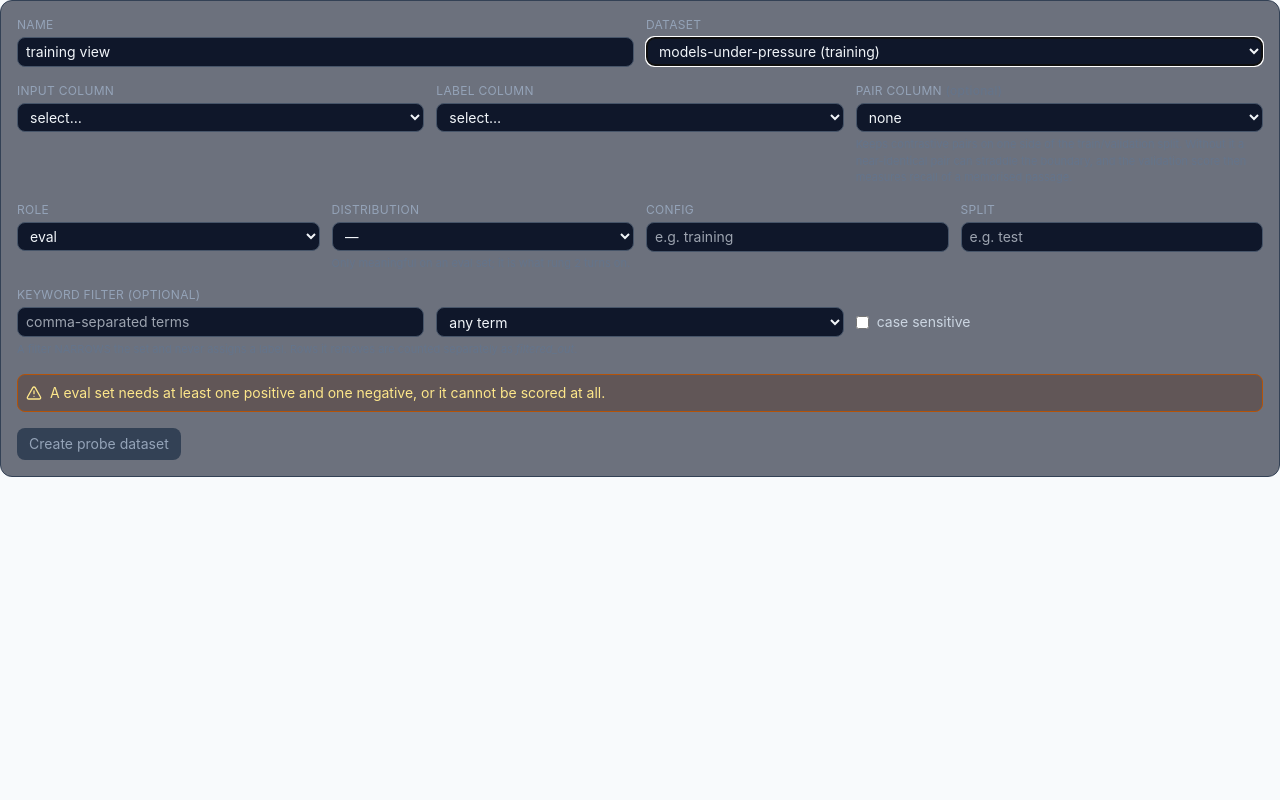
Test: ProbeDatasetForm reads its choices from the data › submits once every value is mapped
Earlier steps of the test are not shown.
Later steps or results of the test are not shown.
Check: the dropdown labelled "Label column" is shown, box [436, 103, 844, 132]
Step 1. Select "inputs" in the dropdown labelled "Input column" → (221, 118), box [17, 103, 424, 132]
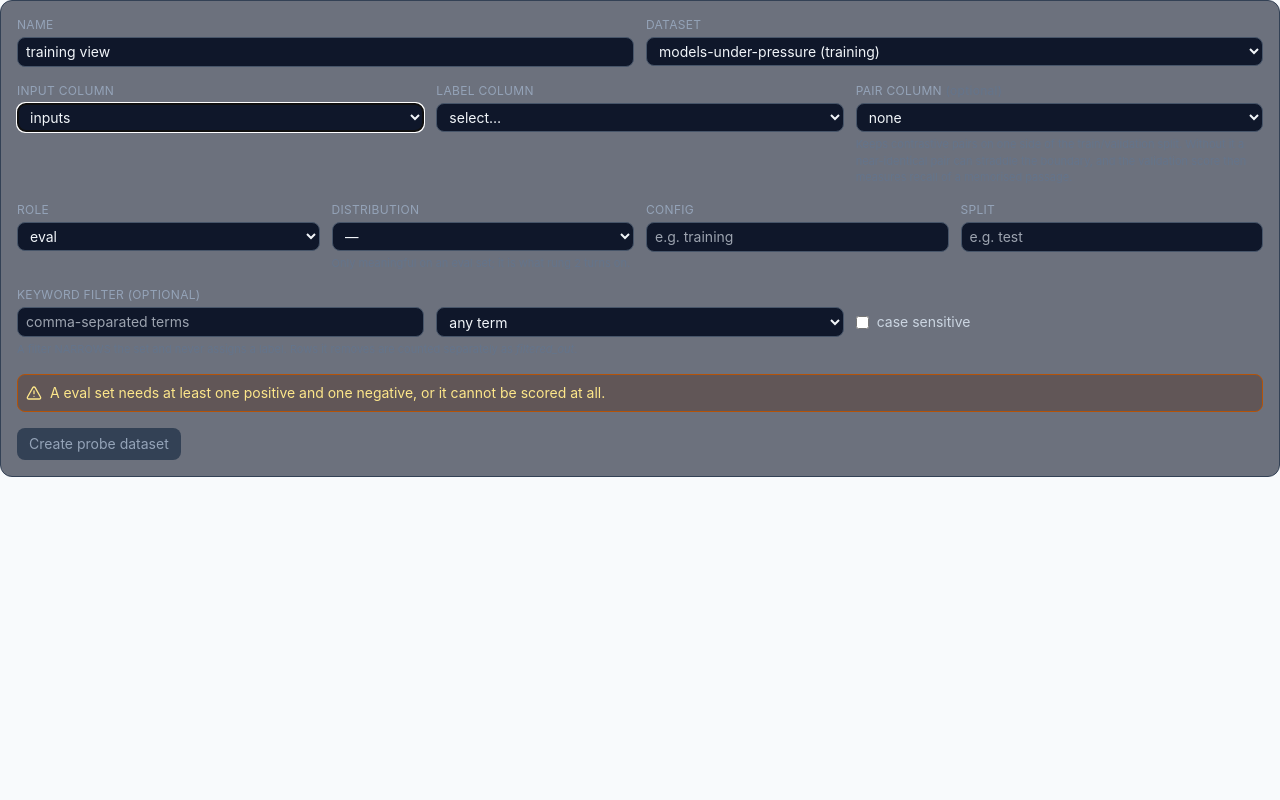
Step 2. Select "stakes" in the dropdown labelled "Label column" → (640, 118), box [436, 103, 844, 132]
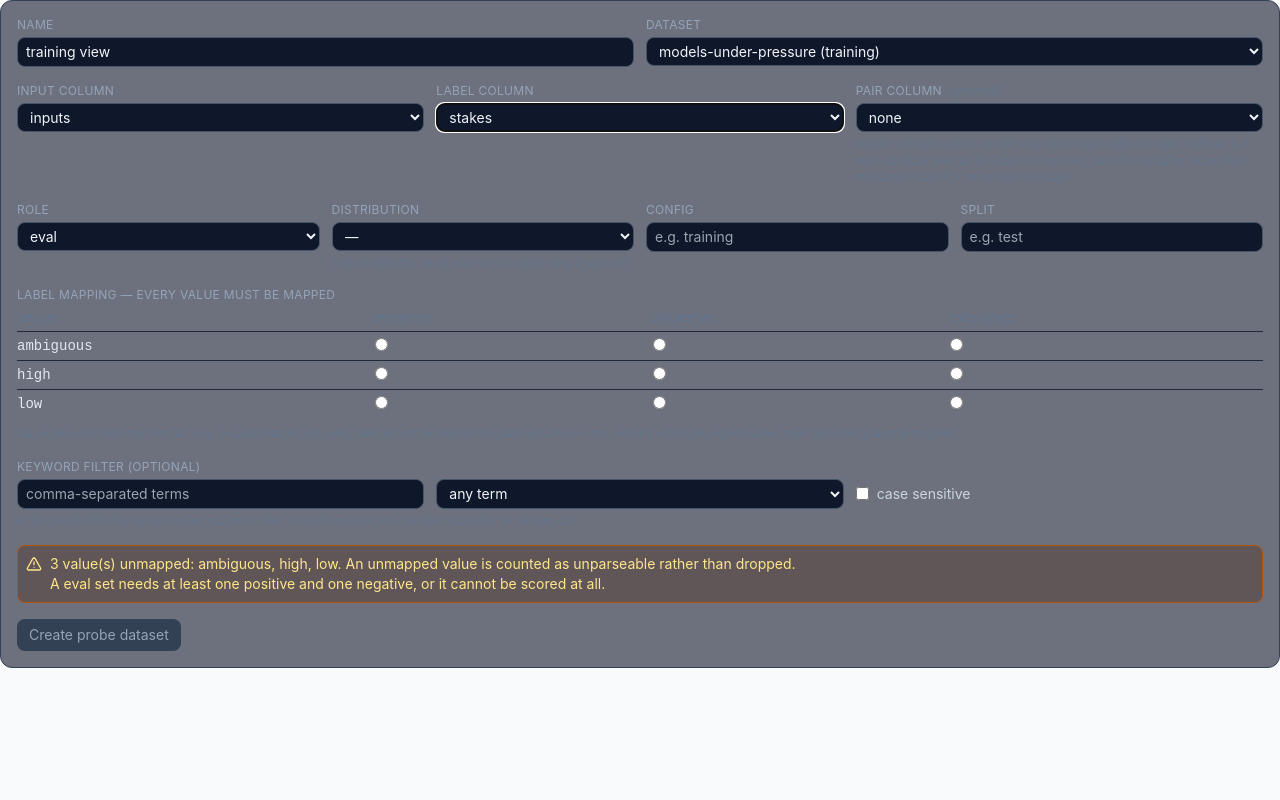
Step 3. Click the radio button named "high → positive" → (382, 374), box [375, 367, 388, 380]
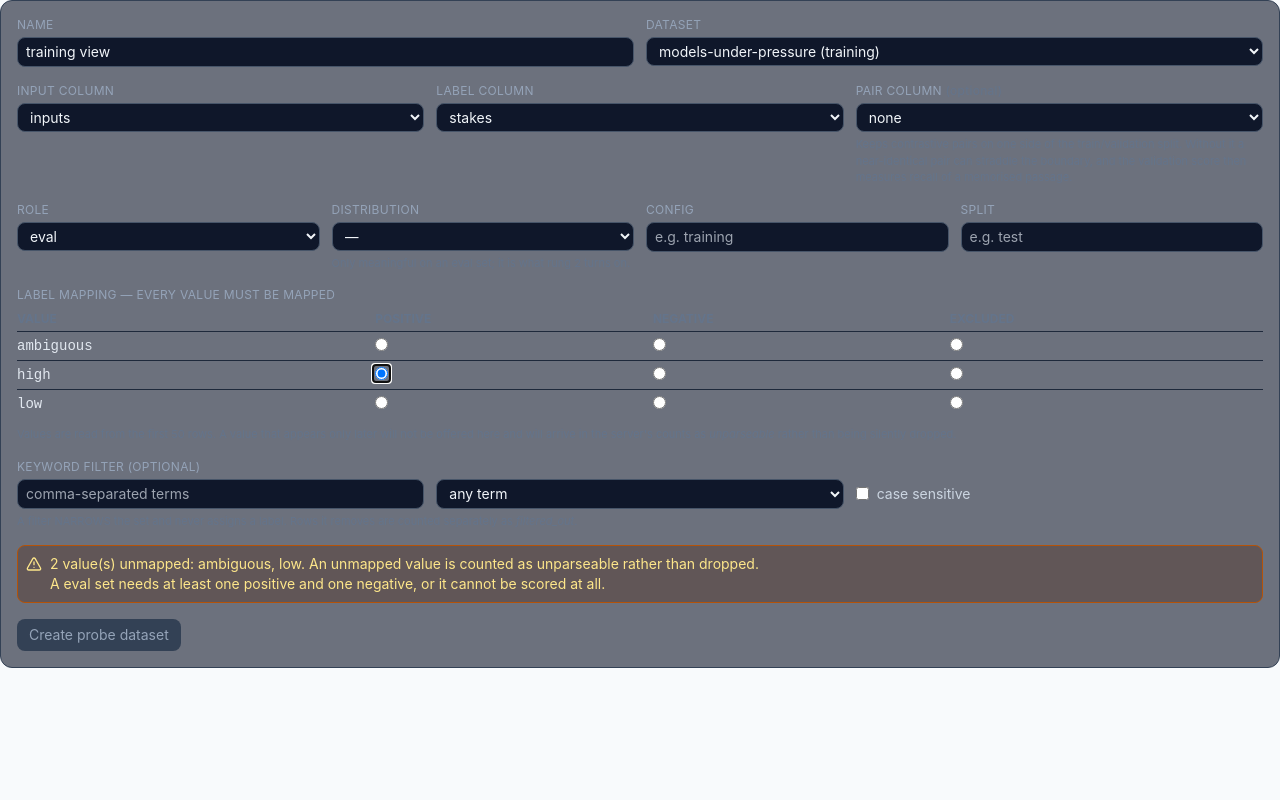
Step 4. Click the radio button named "low → negative" → (659, 402), box [653, 396, 666, 409]
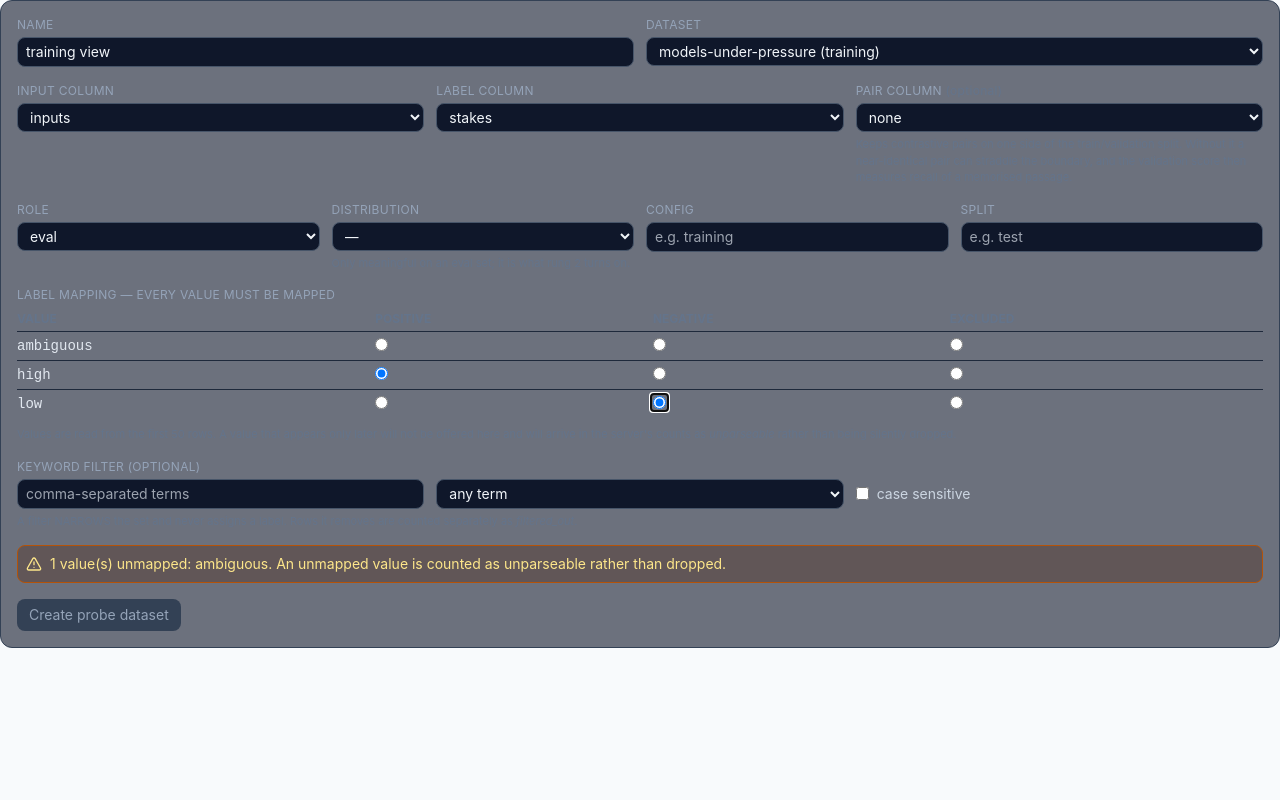
Step 5. Click the radio button named "ambiguous → excluded" → (956, 344), box [950, 338, 963, 351]
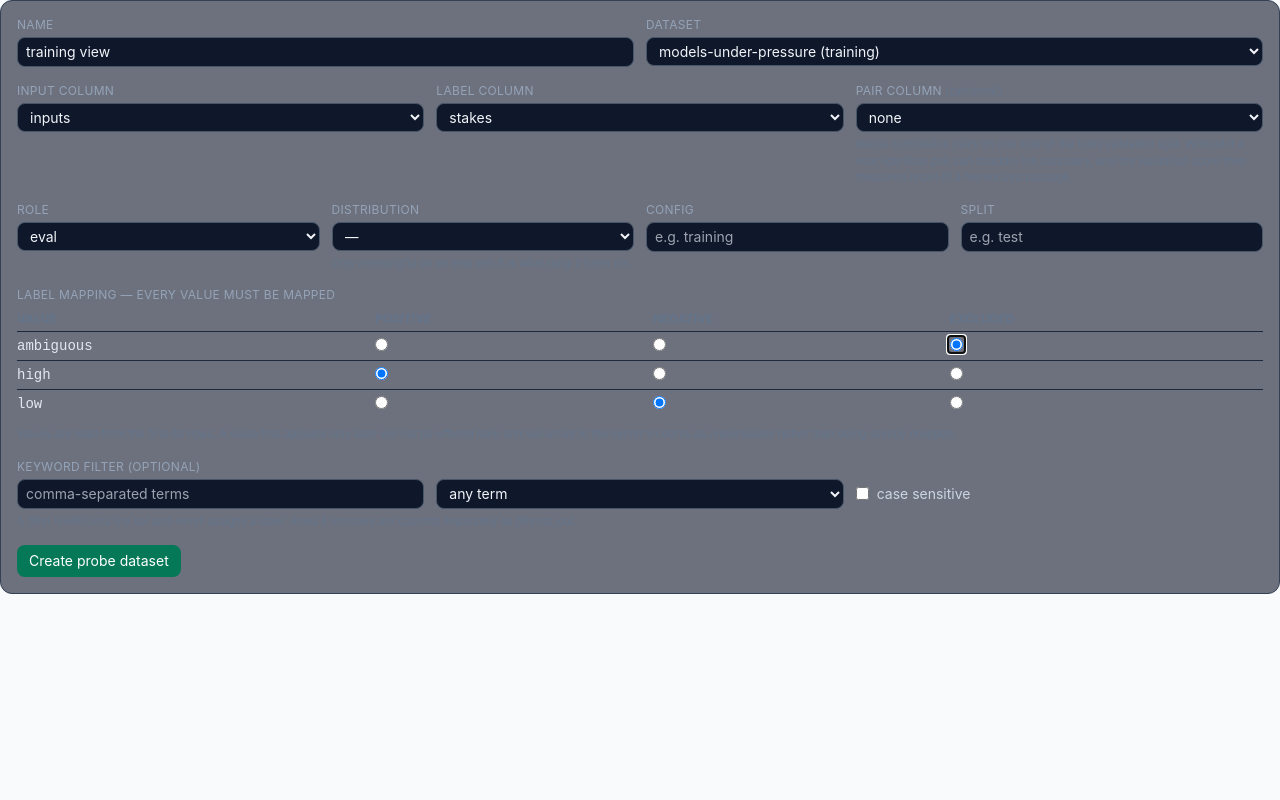
Step 6. Select "train" in the dropdown labelled "Role" → (168, 236), box [17, 222, 320, 250]
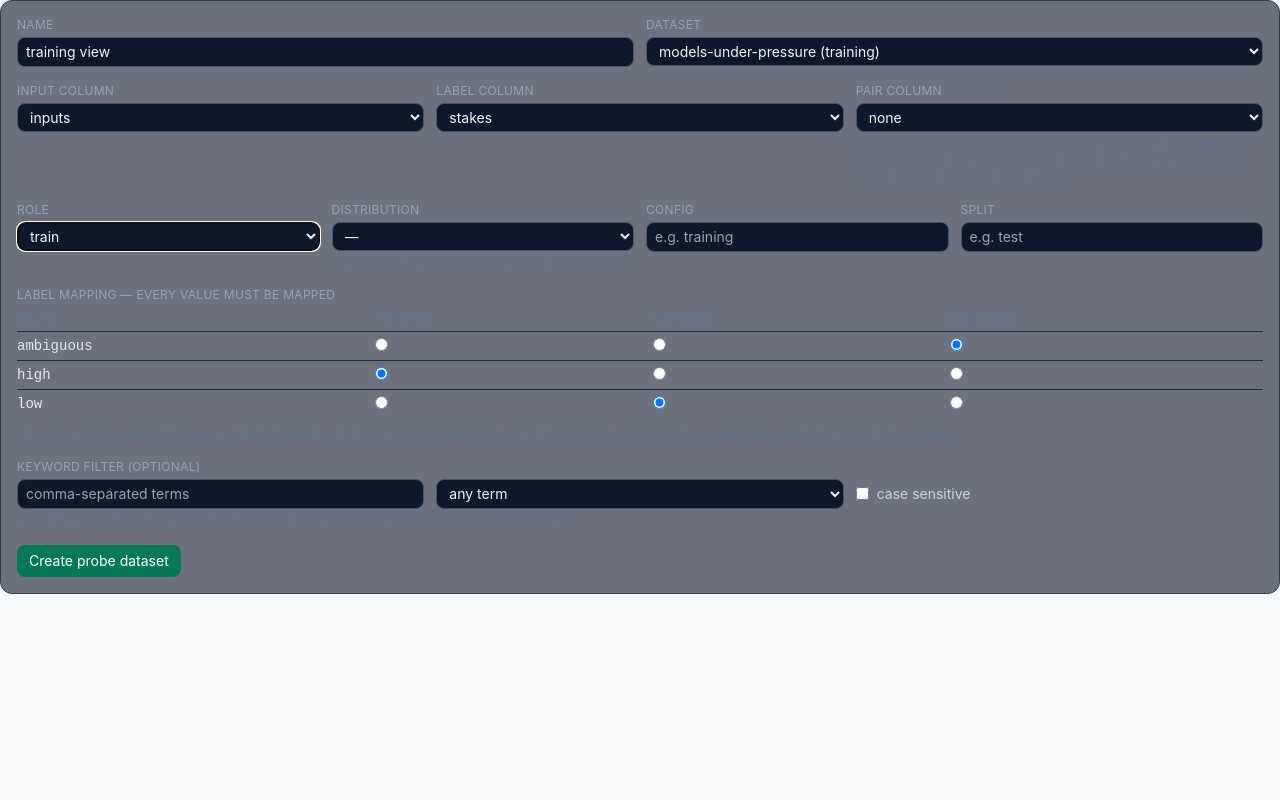
Check: the button "Create probe dataset" is enabled, box [17, 545, 181, 577]
